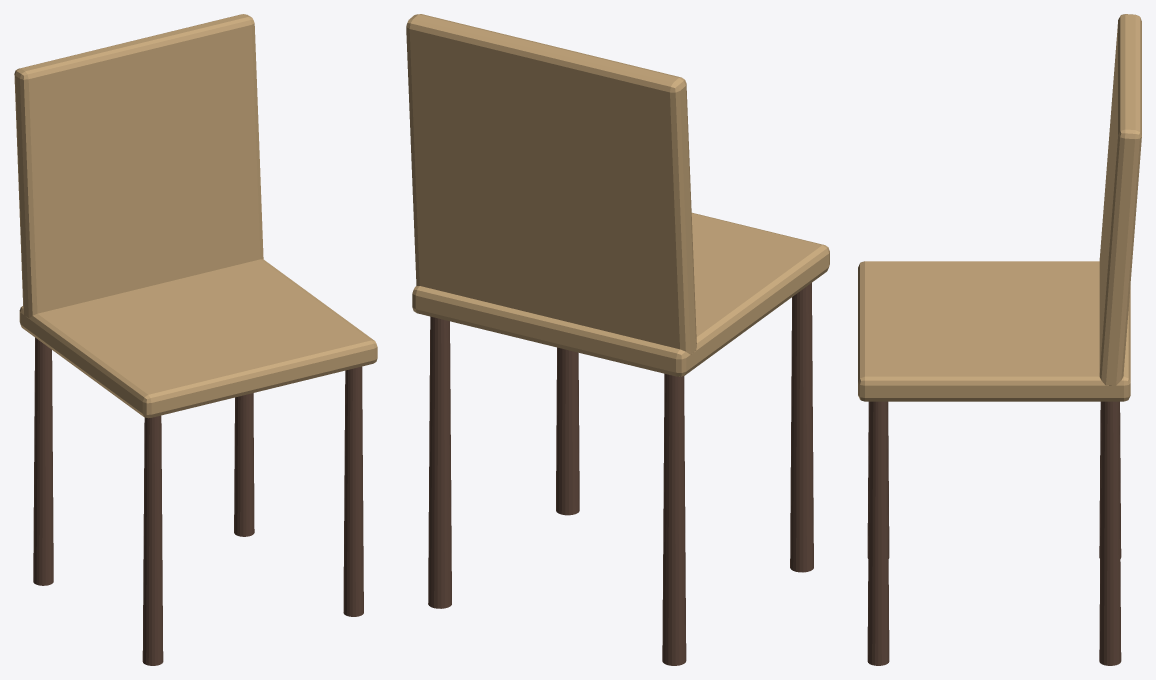
The model's file is diningChair.glb.
3 views of the same model, side by side, from view 1: azimuth 30°, elevation 25°; view 2: azimuth 150°, elevation 25°; view 3: azimuth 270°, elevation 25° (orthographic). The views are drawn at different scales.
Parts seen in each view (by area): view 1: back, seat, leg1-1.004, leg-1-1.004, leg-11.004, leg11.004; view 2: back, seat, leg-11.004, leg11.004, leg-1-1.004, leg1-1.004; view 3: seat, back, leg11.004, leg1-1.004, leg-1-1.004, leg-11.004.
Boxes of the visible parts, left/top/right/bottom form: back: left=14, top=14, right=263, bottom=318; seat: left=19, top=259, right=377, bottom=417; leg1-1.004: left=343, top=366, right=363, bottom=616; leg-1-1.004: left=142, top=415, right=163, bottom=665; leg-11.004: left=33, top=337, right=53, bottom=585; leg11.004: left=234, top=393, right=254, bottom=536; back: left=406, top=14, right=696, bottom=354; seat: left=412, top=212, right=829, bottom=376; leg-11.004: left=662, top=373, right=686, bottom=665; leg11.004: left=428, top=316, right=451, bottom=608; leg-1-1.004: left=790, top=283, right=813, bottom=572; leg1-1.004: left=556, top=347, right=579, bottom=515; seat: left=858, top=261, right=1130, bottom=401; back: left=1099, top=14, right=1141, bottom=385; leg11.004: left=1099, top=401, right=1121, bottom=665; leg1-1.004: left=867, top=401, right=889, bottom=665; leg-1-1.004: left=867, top=401, right=889, bottom=558; leg-11.004: left=1099, top=401, right=1121, bottom=558.
Size of the model in its own units: 0.42 by 0.87 by 0.4164.
